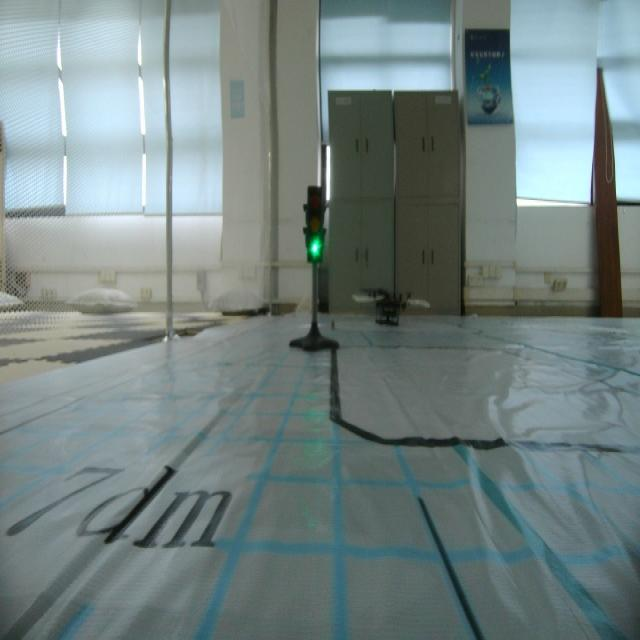green: (301, 179, 330, 268)
